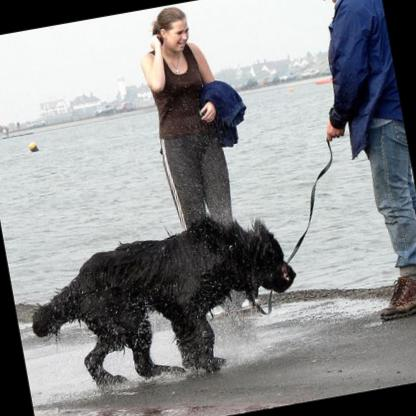Newfoundland: (17, 199, 308, 399)
